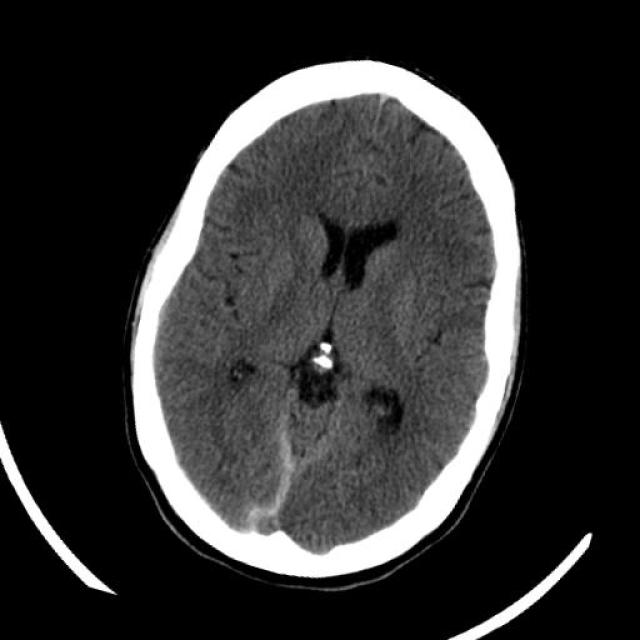Subdural: (228, 420, 338, 574)
